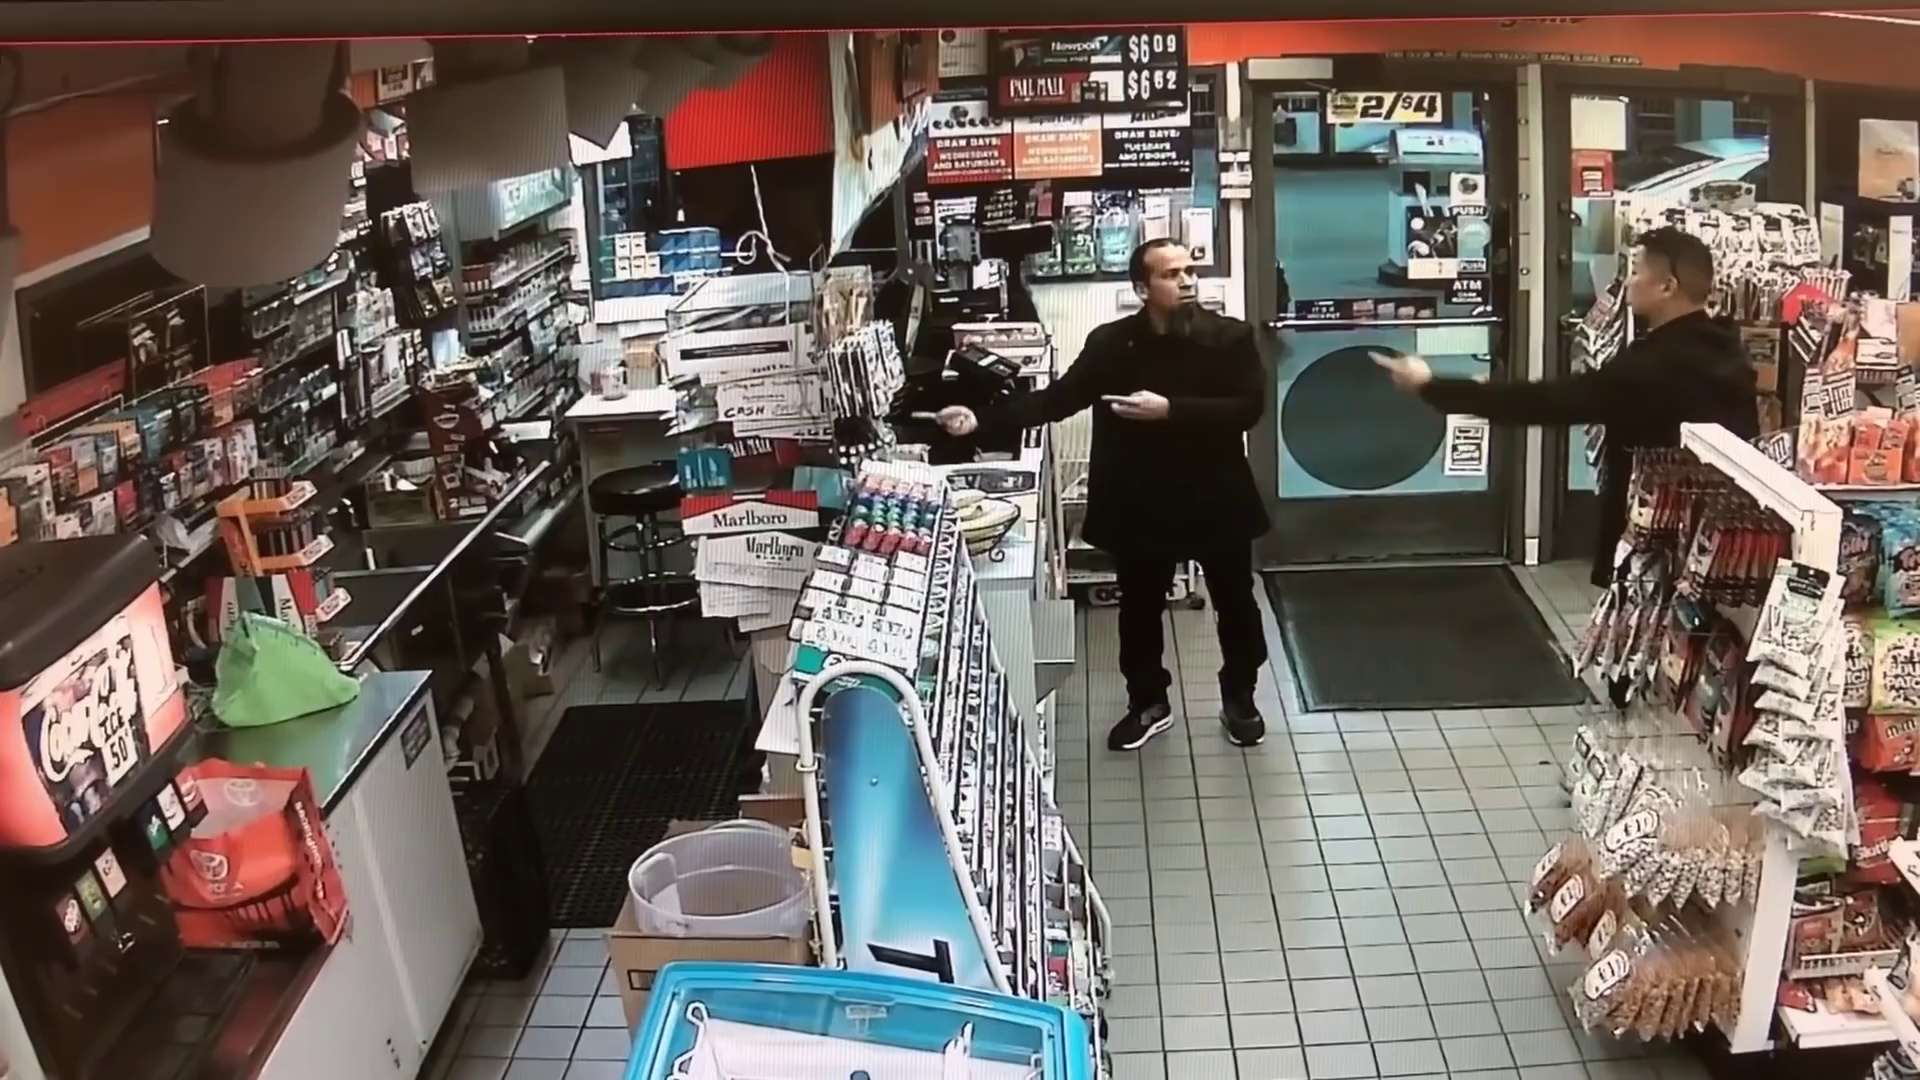face: (1619, 253, 1669, 319), (1142, 253, 1200, 308)
